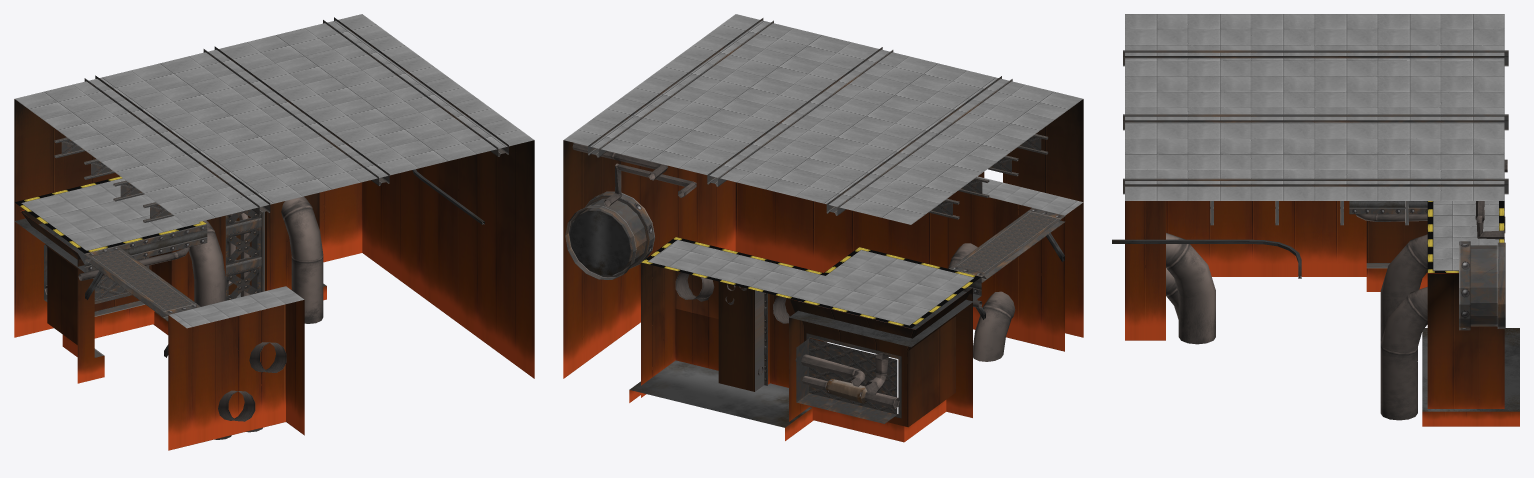
File: molten_large_room.fbx
The picture shows the model from 3 angles, left to right: view 1: azimuth 30°, elevation 25°; view 2: azimuth 150°, elevation 25°; view 3: azimuth 270°, elevation 25°; orthographic projection. The views are drawn at different scales.
Visible parts, largest first — view 1: Walls, Floor, Big Pipes, RoofSupports, Bridge, Covers, Pipes; view 2: Walls, Floor, BigPipe, RoofSupports, Pipes, Bridge, Big Pipes, Covers; view 3: Walls, Floor, Big Pipes, RoofSupports, BigPipe, Pipes, BucketRail.
Part boxes in pixels (x1,y1,x2,y2): Walls: (14, 14, 534, 378); Floor: (14, 176, 326, 450); Big Pipes: (188, 196, 323, 439); RoofSupports: (54, 17, 508, 222); Bridge: (84, 246, 200, 357); Covers: (93, 209, 261, 300); Pipes: (44, 213, 249, 296); Walls: (563, 14, 1083, 378); Floor: (629, 176, 1083, 442); BigPipe: (565, 191, 654, 279); RoofSupports: (588, 18, 1048, 219); Pipes: (572, 143, 982, 408); Bridge: (949, 208, 1065, 319); Big Pipes: (675, 243, 1015, 361); Covers: (764, 292, 897, 414); Walls: (1125, 14, 1504, 276); Floor: (1125, 201, 1519, 426); Big Pipes: (1166, 233, 1427, 420); RoofSupports: (1123, 50, 1508, 225); BigPipe: (1459, 241, 1505, 330); Pipes: (1356, 159, 1507, 239); BucketRail: (1112, 239, 1301, 278).
Size of the model in its own units: 8482 by 5609 by 7547.
